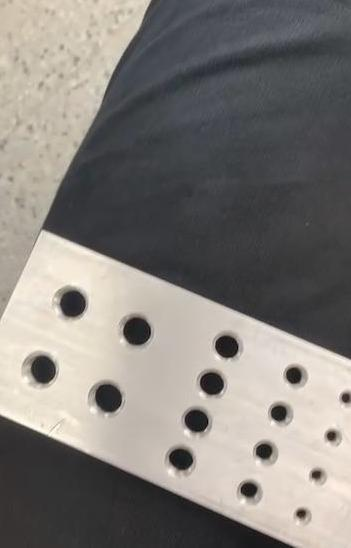hole: (86, 380, 128, 421), (20, 349, 60, 391), (50, 282, 92, 321), (117, 312, 156, 350), (163, 443, 200, 479), (178, 405, 214, 440), (209, 329, 244, 364), (194, 366, 228, 398), (264, 400, 296, 430), (251, 439, 281, 471), (280, 362, 310, 392), (236, 479, 266, 508), (308, 464, 330, 487), (293, 504, 313, 528), (324, 424, 344, 447), (338, 387, 351, 409)
